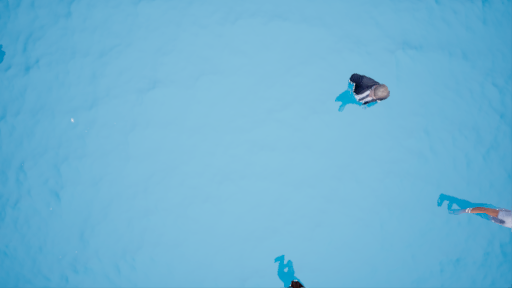person: (439, 185, 512, 231), (332, 62, 391, 114), (267, 252, 309, 288)
